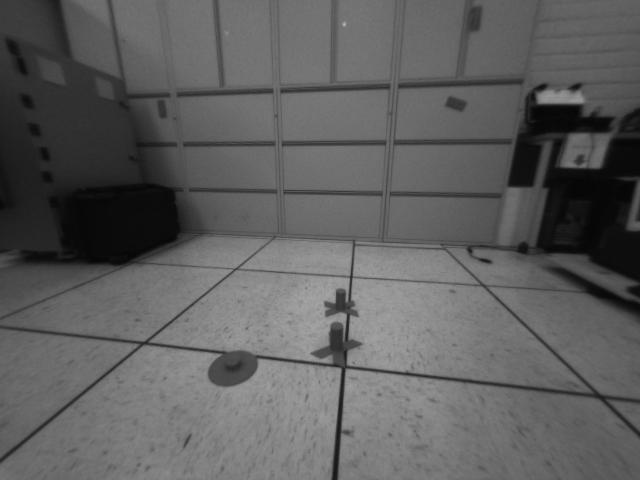X: (310, 322, 361, 367), (324, 286, 357, 320)
